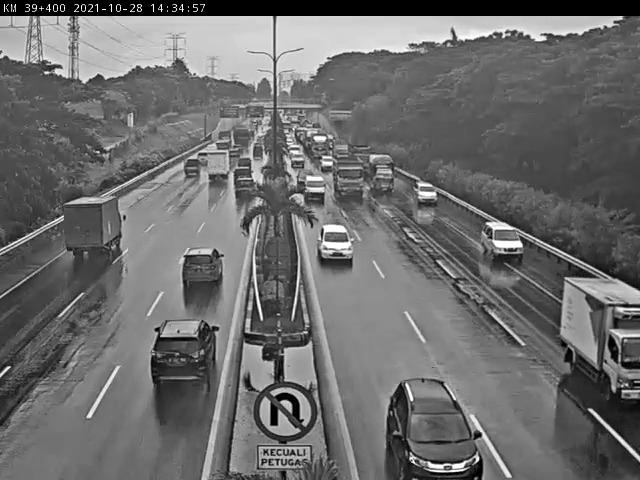big truck: (336, 165, 369, 203)
car: (371, 372, 493, 480), (146, 314, 224, 406), (480, 207, 529, 269), (179, 242, 228, 296), (319, 221, 360, 266), (301, 171, 328, 207), (411, 175, 436, 204), (236, 155, 263, 179), (236, 178, 259, 204), (179, 158, 203, 180)
small truck: (542, 276, 640, 405), (60, 195, 124, 270), (205, 150, 233, 191), (369, 158, 395, 194)
